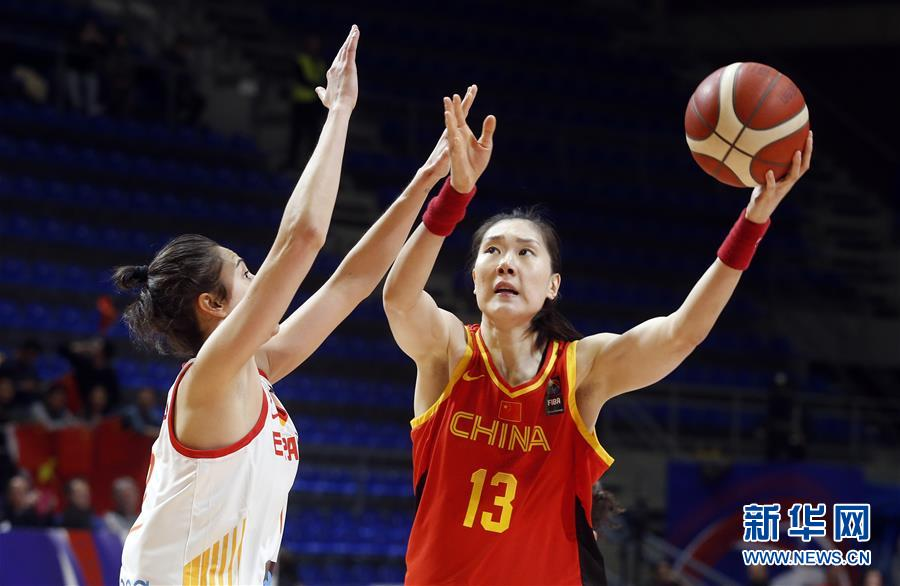ball: (685, 60, 811, 187)
